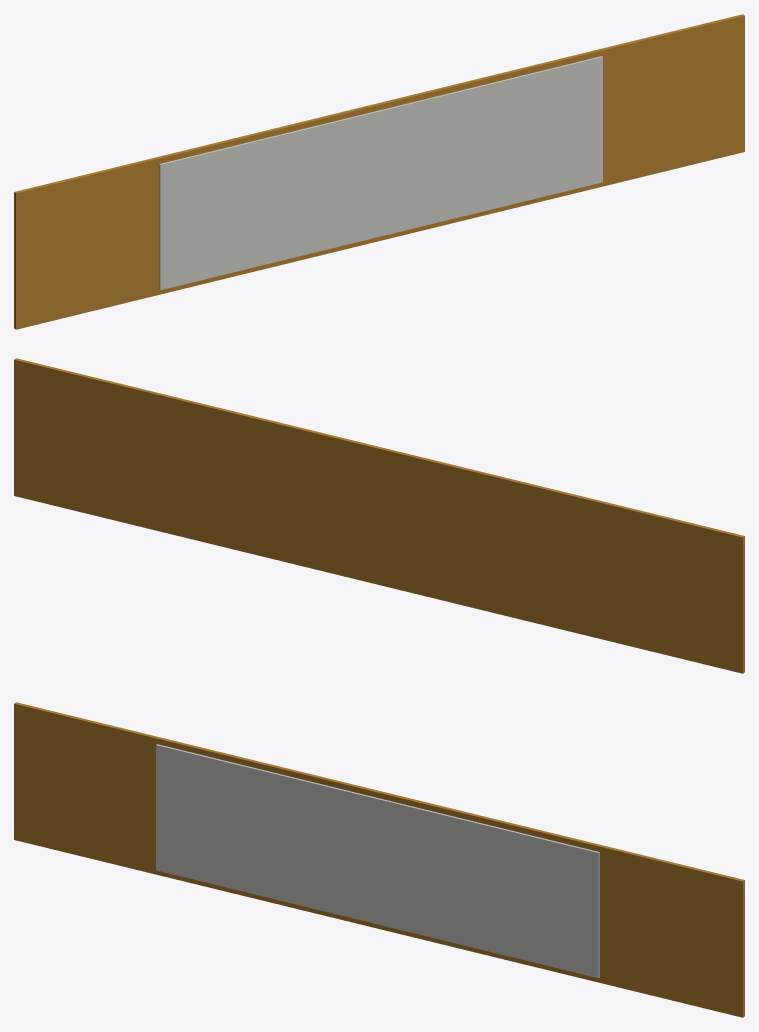
The model's file is ffc_segment_label.obj.
3 views of the same model, one above another, from view 1: azimuth 30°, elevation 25°; view 2: azimuth 150°, elevation 25°; view 3: azimuth 330°, elevation 25° (orthographic).
Bounding box in the file's own units: 0.028 × 0.005 × 0.00022.
